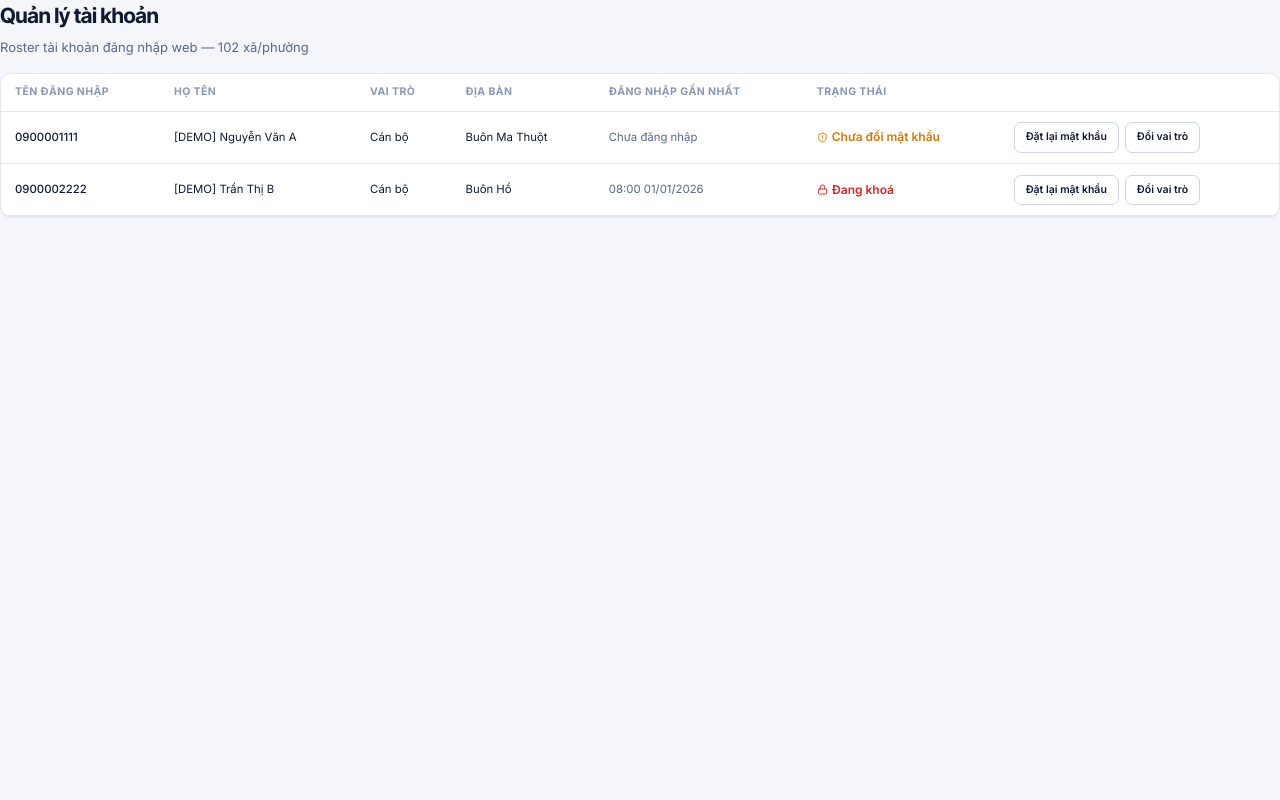
Scenario: AdminAccountsPage › Đổi vai trò › shows an error and keeps the dialog open when saving fails
The width and height of the screenshot is (1280, 800).
Check: the text "0900001111" is shown, box [1,112,160,164]
Click the button "Đổi vai trò" in the row of "0900001111": [1162, 138] box [1125,122,1200,153]
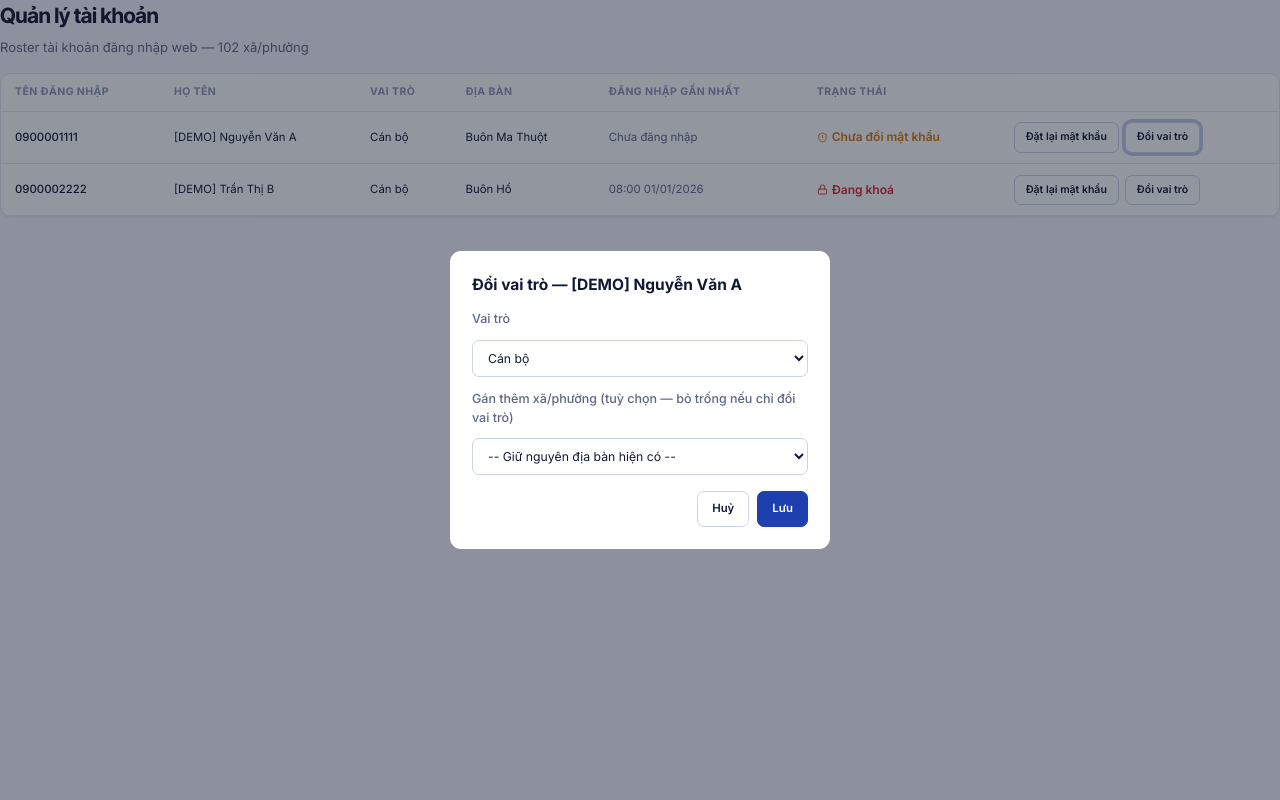
Check: the text "Đổi vai trò — [DEMO] Nguyễn Văn A" is shown, box [472,275,742,294]
Click the button "Lưu": [783, 509] box [757,491,808,527]
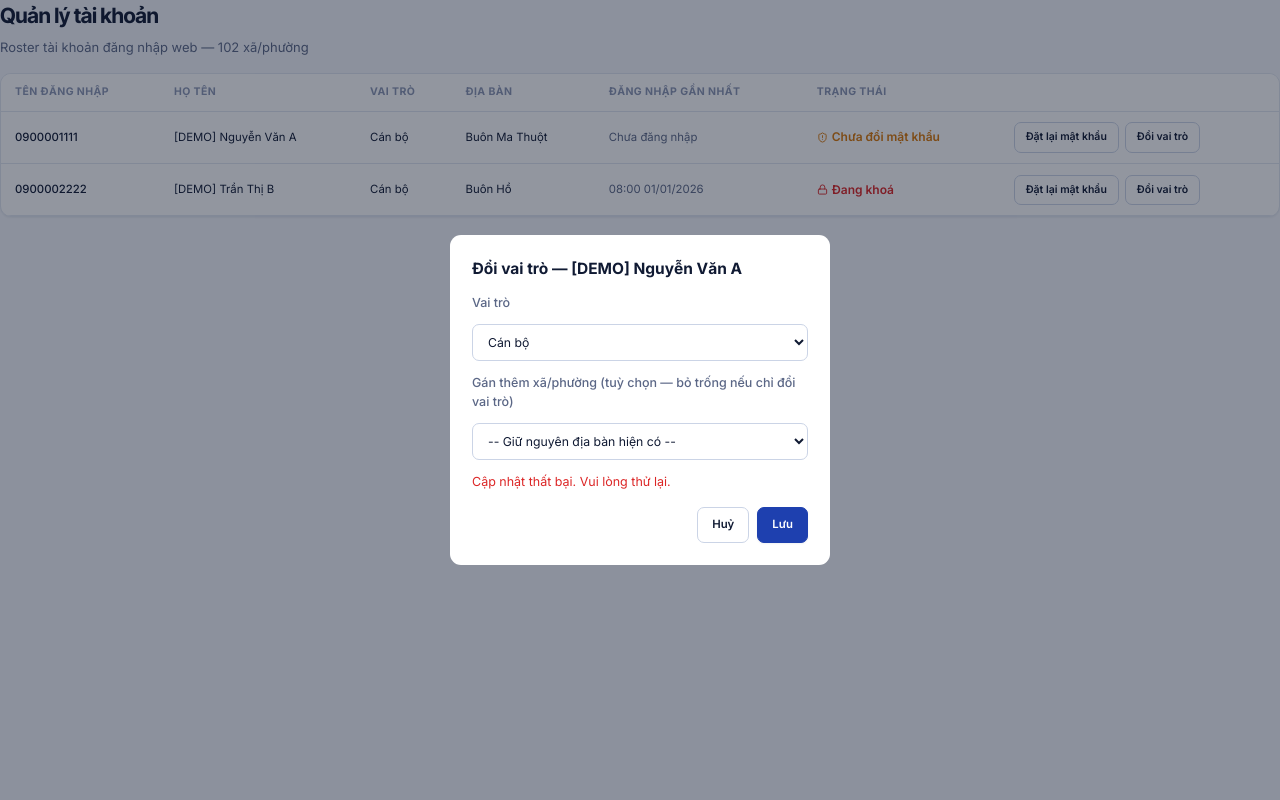
Check: the text "Đổi vai trò — [DEMO] Nguyễn Văn A" is shown, box [472,259,742,278]
Check: the text "Cập nhật thất bại. Vui lòng thử lại." is shown, box [472,474,671,489]
